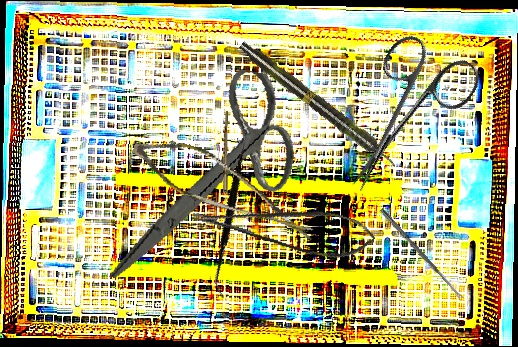Handpiece: (236, 37, 401, 173)
Iris Scissors: (108, 51, 309, 308), (318, 23, 486, 215)
Micro Scissor: (122, 131, 330, 241), (190, 178, 379, 270)
Spatula Surgical: (163, 123, 300, 299)
Surgical Spoon: (379, 207, 464, 302), (223, 111, 228, 221)
